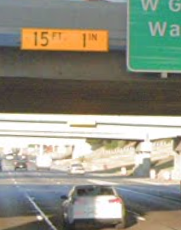1: (79, 30, 88, 49), (31, 29, 39, 48)
5: (38, 30, 51, 48)
overheadsign: (20, 27, 109, 55)
